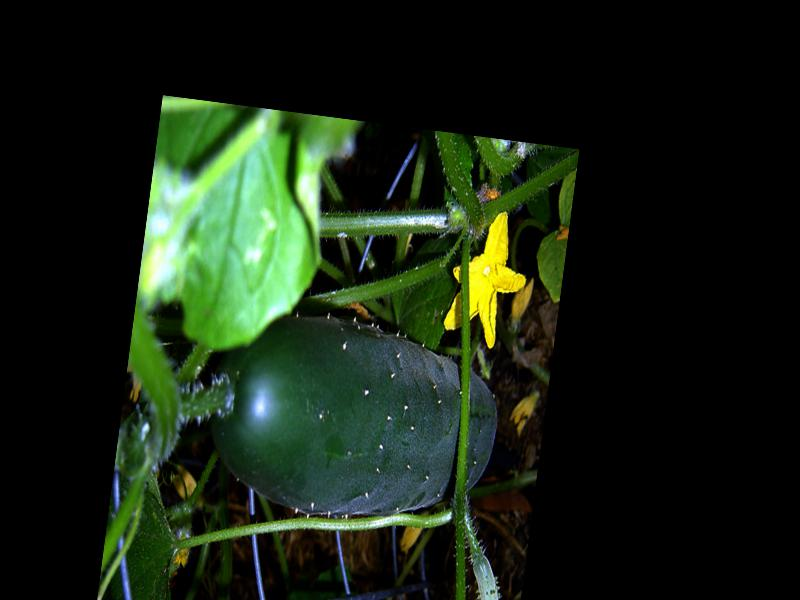Cucumber: (198, 303, 506, 539)
